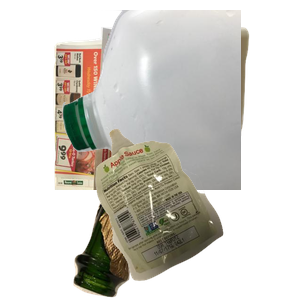glass: (71, 152, 260, 300)
paper: (51, 24, 291, 204)
plastic: (60, 10, 300, 190)
trash: (93, 126, 300, 300)
